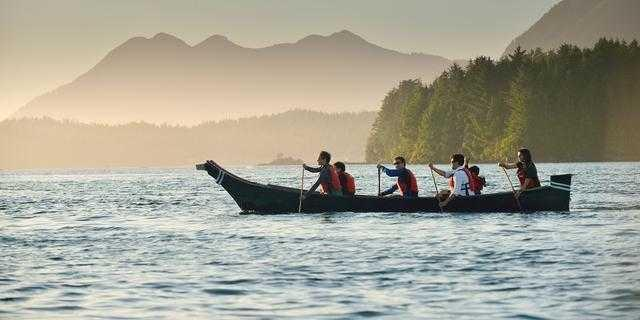kayak: (193, 159, 571, 219)
